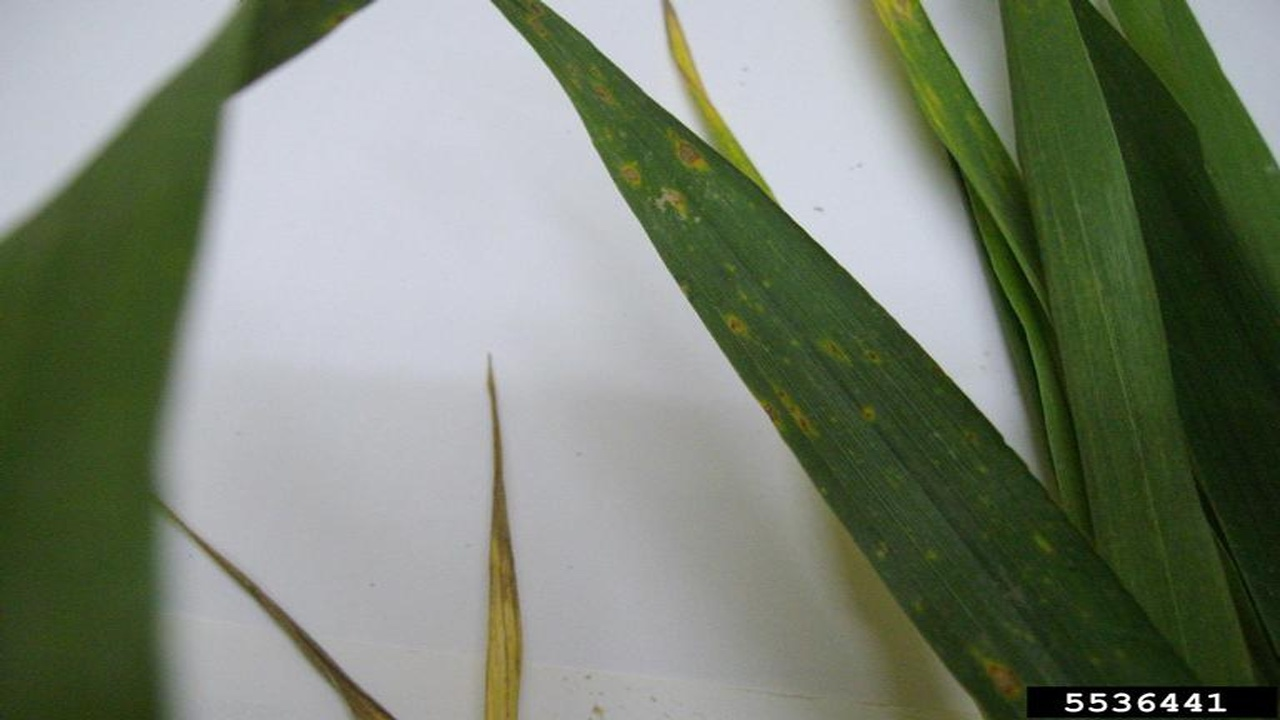tan_spot: (490, 1, 1199, 682)
